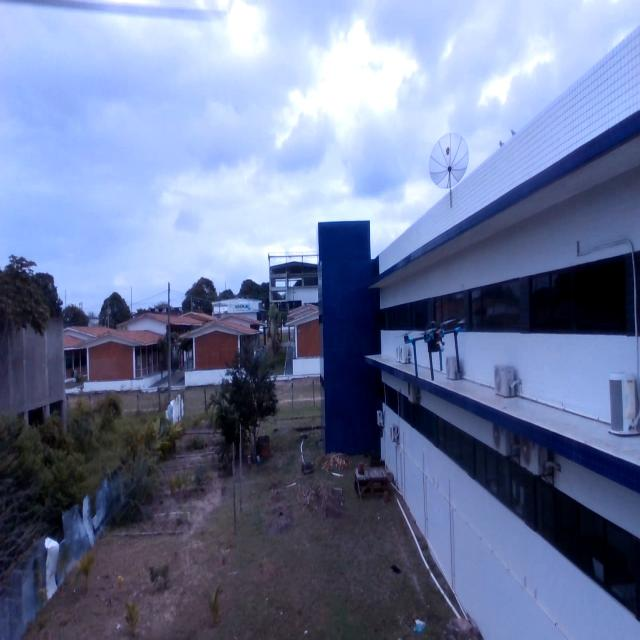-uav-: (390, 307, 475, 388)
